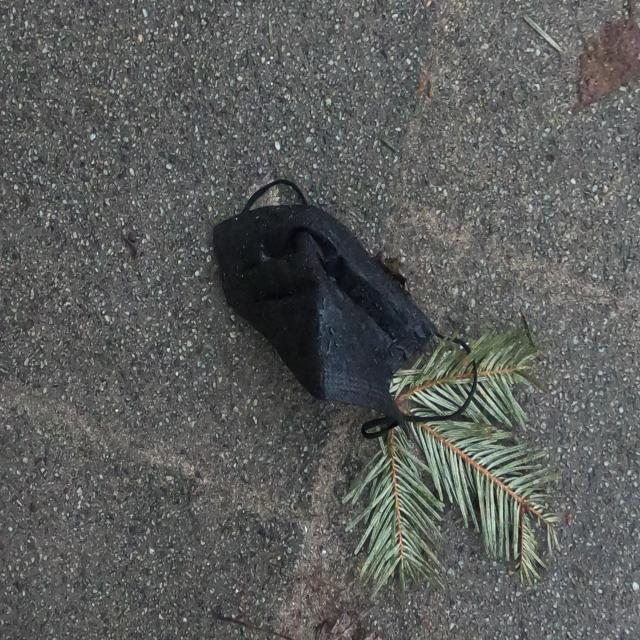Mask: (159, 199, 430, 464)
